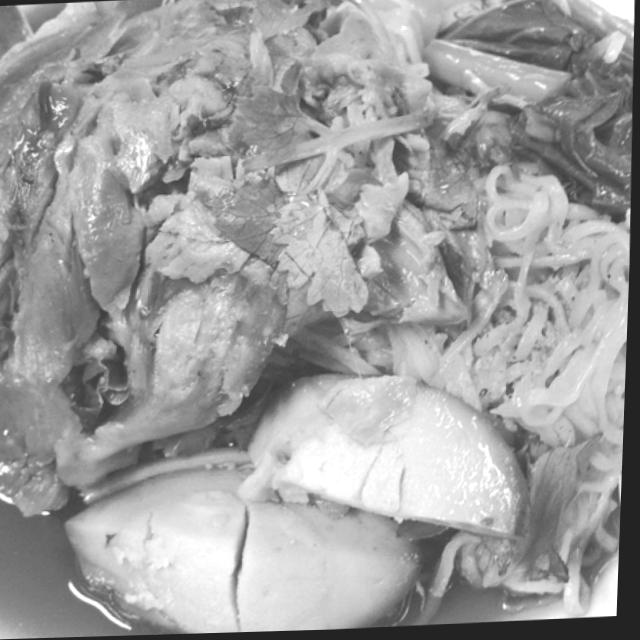猪肉菜式: (0, 2, 606, 631)
